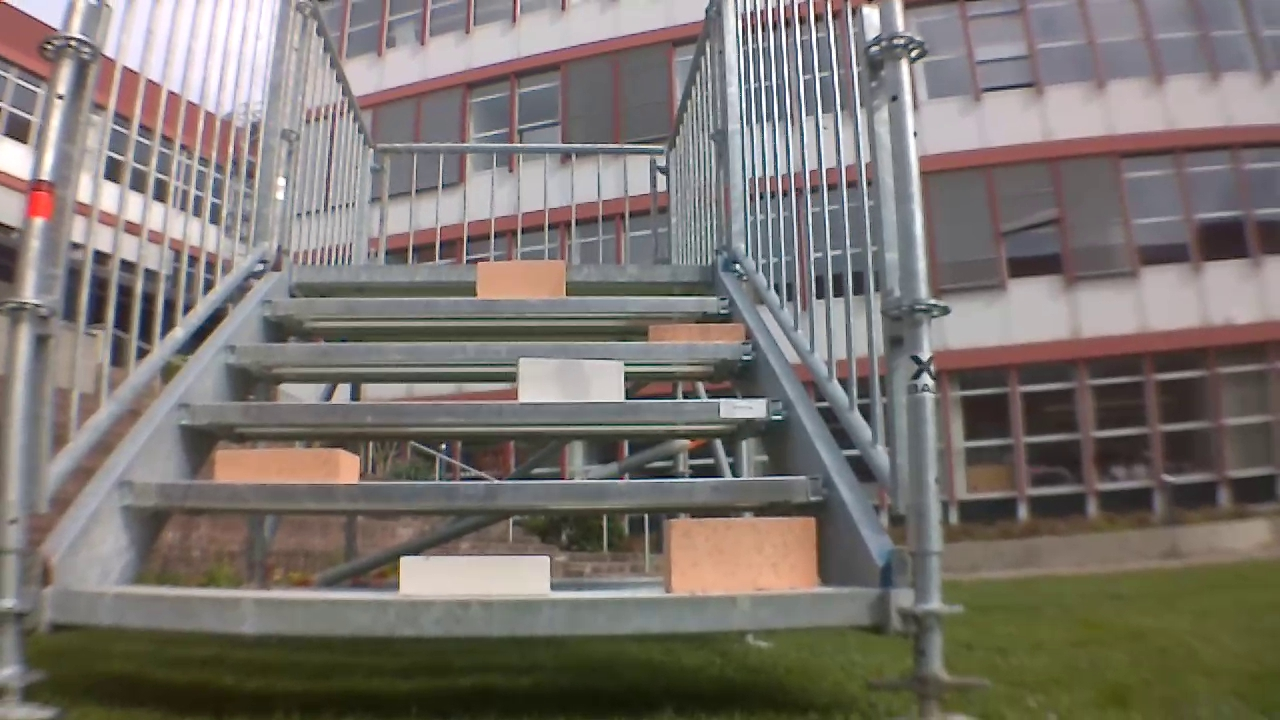brick: (664, 518, 816, 592), (400, 556, 550, 594), (516, 357, 624, 401), (215, 449, 358, 482), (477, 260, 564, 297), (648, 324, 743, 341)
edge: (53, 587, 884, 635), (121, 480, 825, 506), (182, 399, 790, 422), (226, 342, 753, 362), (264, 297, 734, 314), (292, 264, 710, 282)
stairs: (6, 4, 977, 713)
steps: (43, 260, 894, 644)
